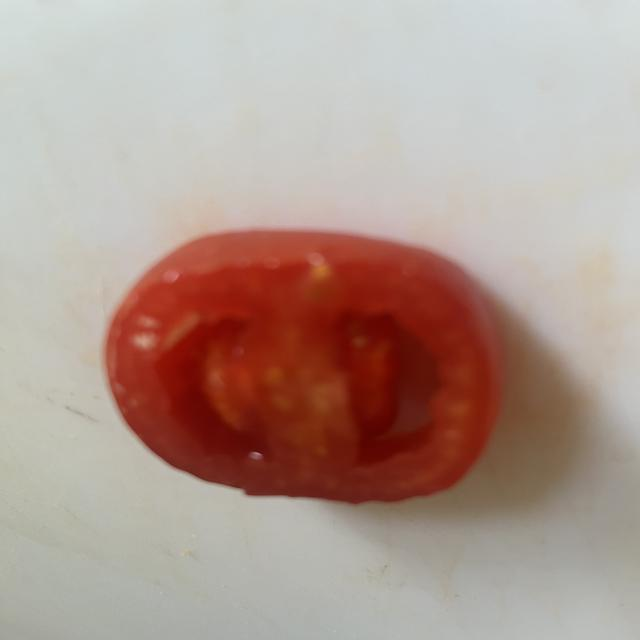sliced_tomato: (106, 231, 501, 503)
